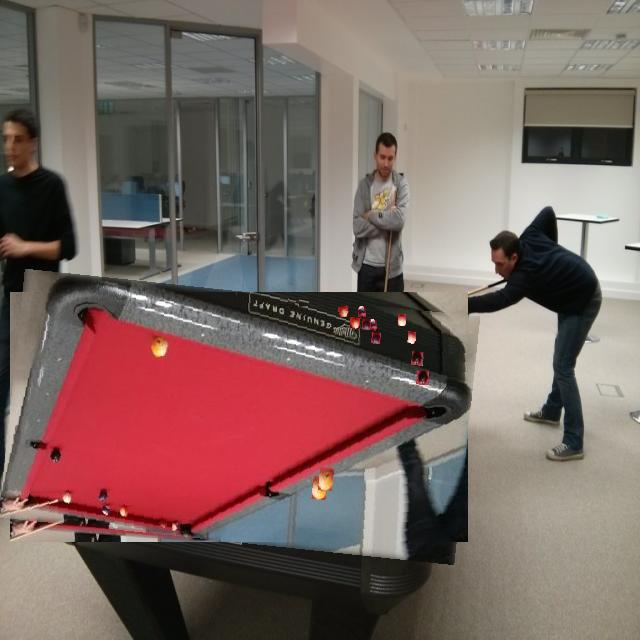Ball: (318, 468, 334, 491), (411, 352, 424, 366), (339, 306, 349, 317), (299, 298, 309, 308), (362, 319, 371, 330), (288, 296, 296, 308), (398, 314, 406, 326), (358, 306, 366, 317)
Billiard table: (5, 281, 474, 553)
